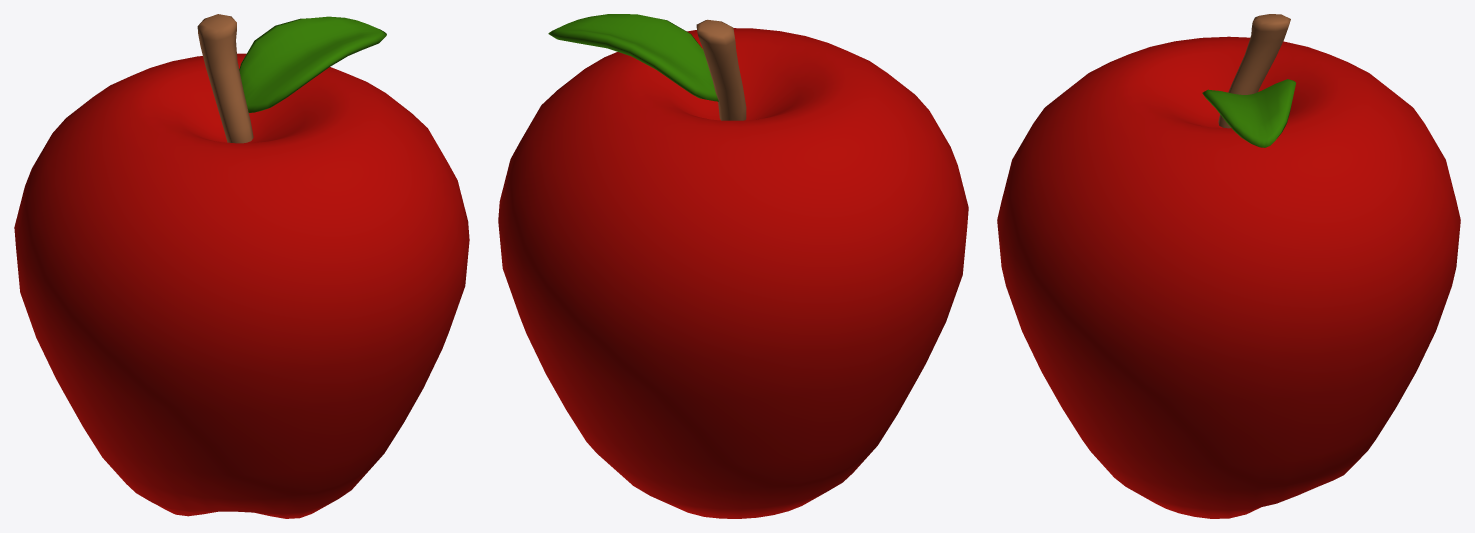
The model's file is Apple.fbx.
3 views of the same model, side by side, from view 1: azimuth 30°, elevation 25°; view 2: azimuth 150°, elevation 25°; view 3: azimuth 270°, elevation 25° (orthographic). The views are drawn at different scales.
Visible parts, largest first — view 1: Sphere.001; view 2: Sphere.001; view 3: Sphere.001.
Boxes of the visible parts, left/top/right/bottom form: Sphere.001: left=14, top=14, right=469, bottom=518; Sphere.001: left=498, top=14, right=968, bottom=518; Sphere.001: left=997, top=14, right=1460, bottom=518.
Size of the model in its own units: 196 by 217 by 196.
